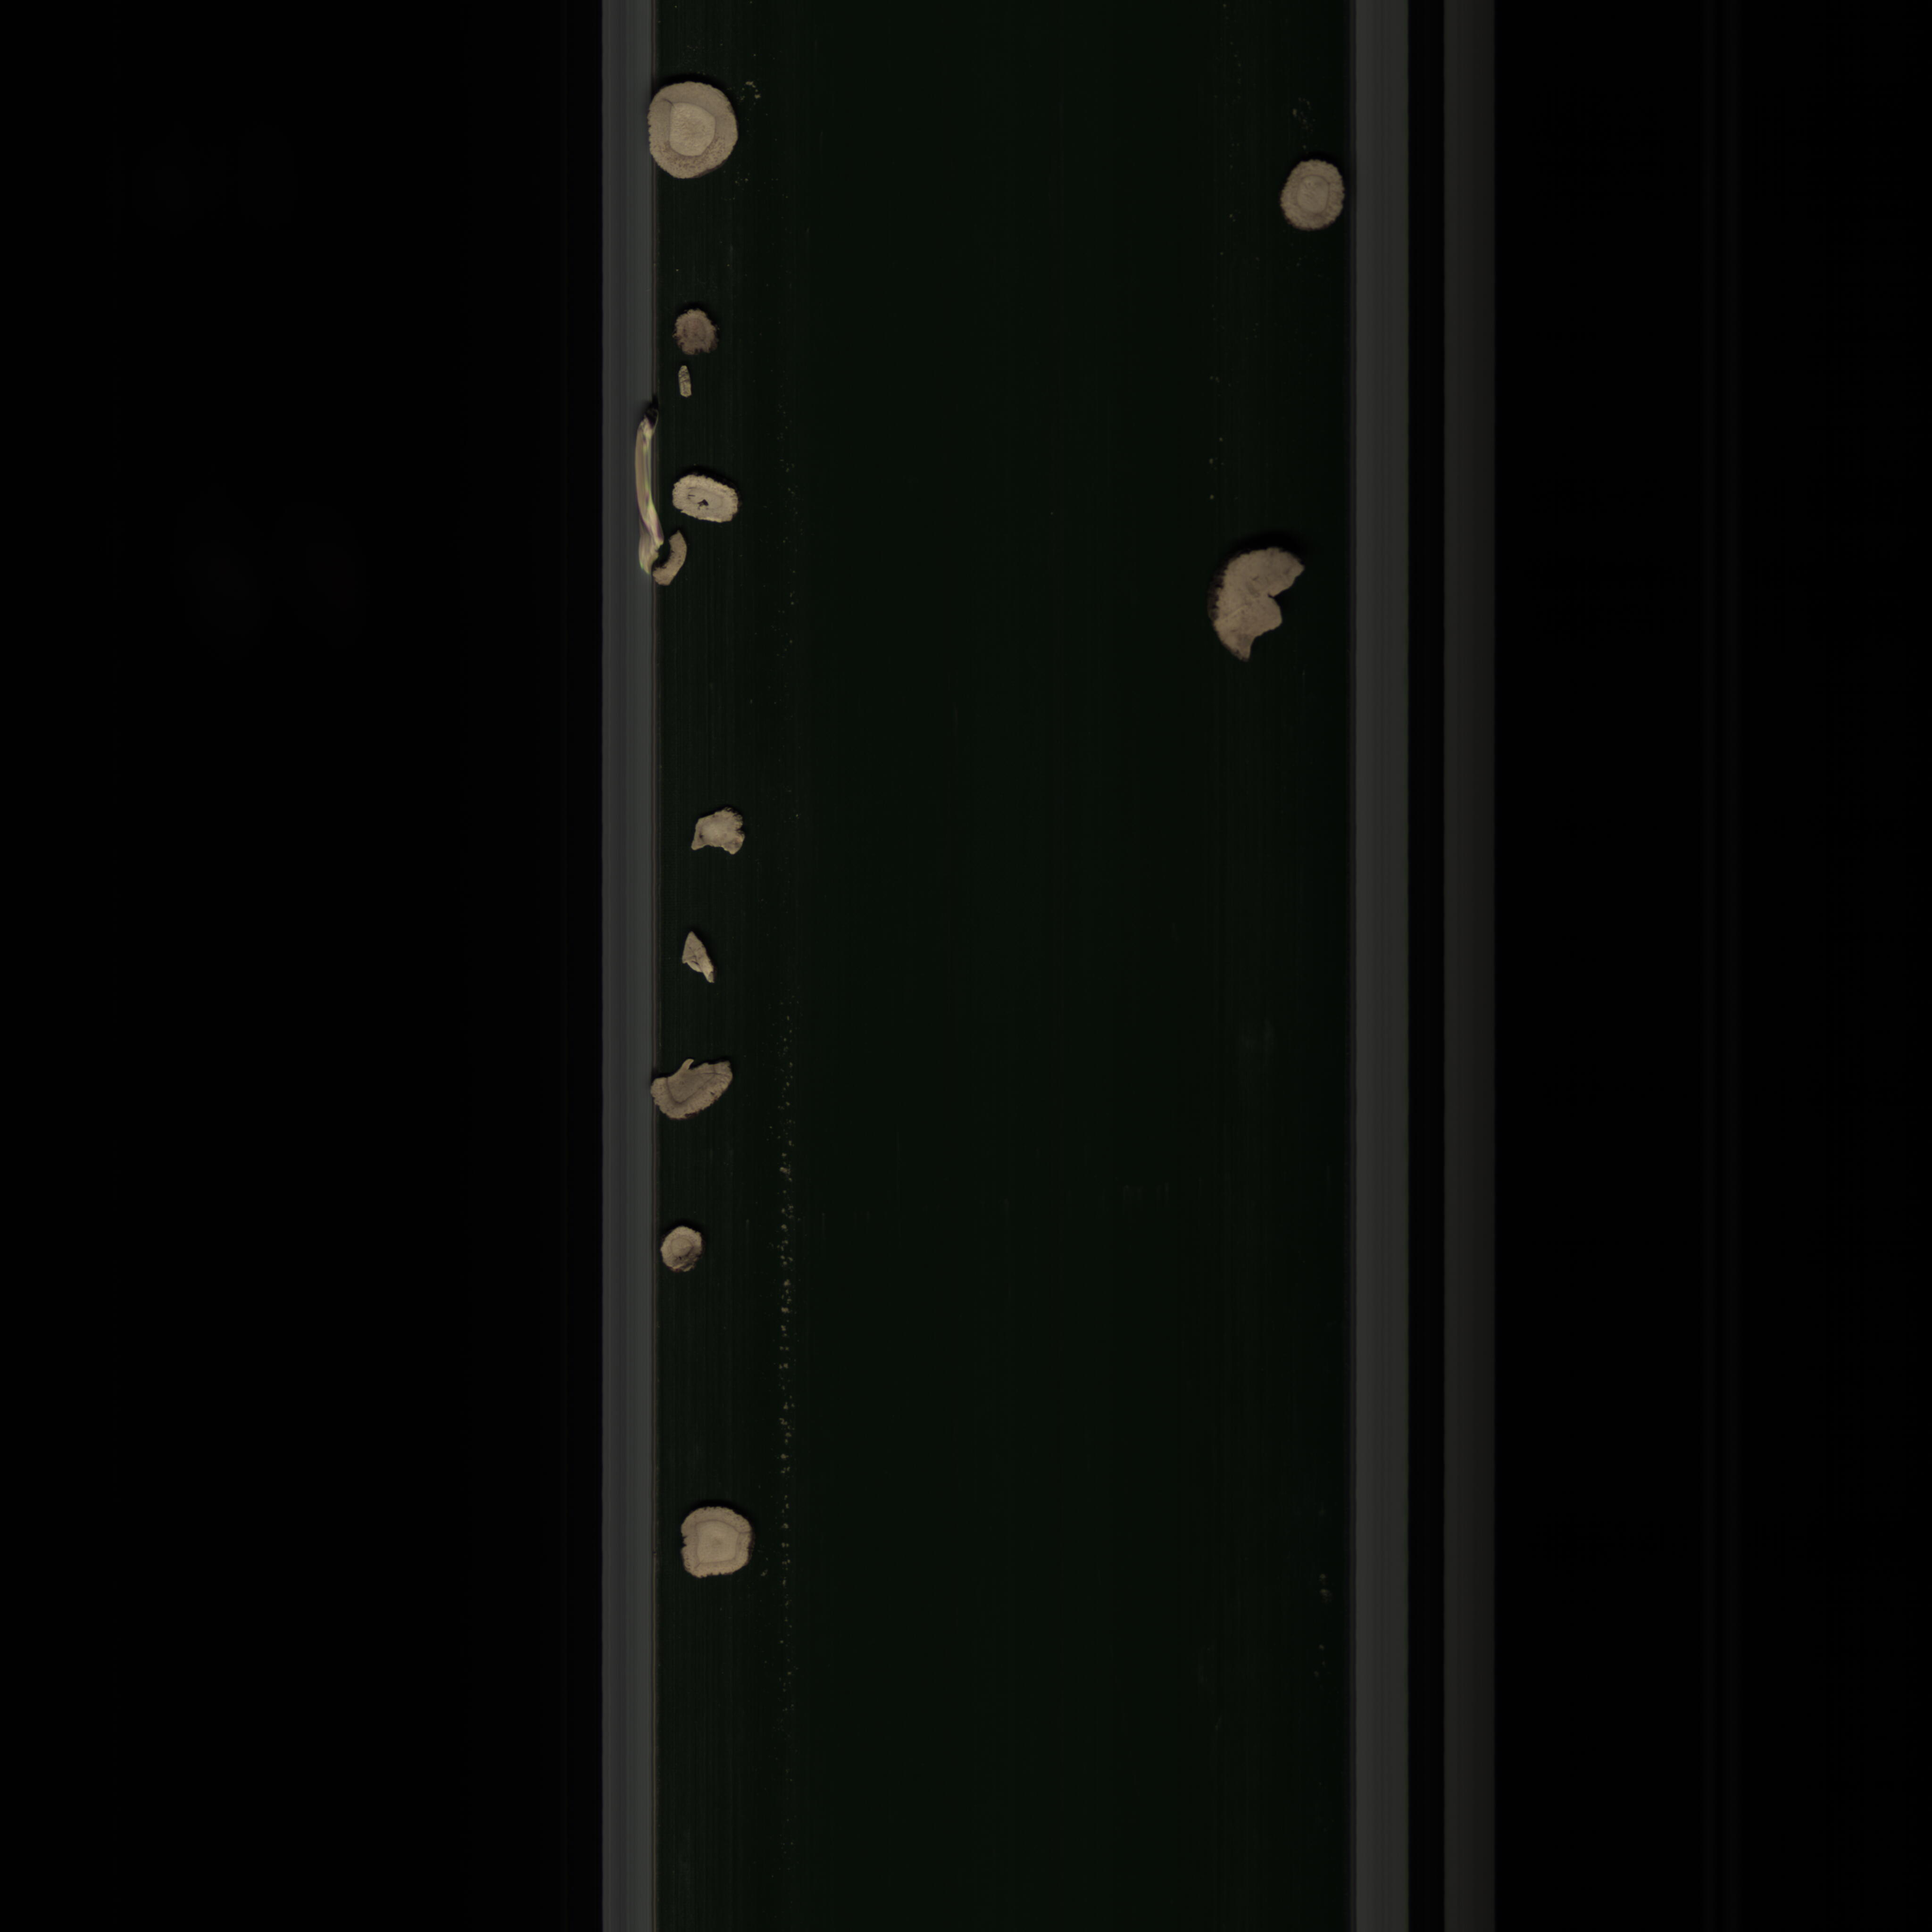debris: (1203, 541, 1315, 676), (649, 1051, 738, 1131), (685, 805, 757, 865), (672, 927, 724, 991), (669, 364, 694, 407)
hole: (665, 465, 747, 533)
moldy: (653, 1224, 715, 1281), (669, 306, 724, 356)
